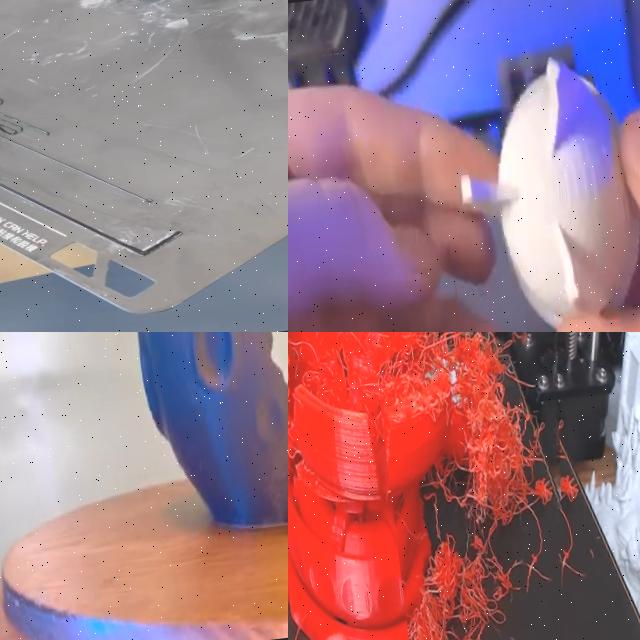spaghetti: (360, 332, 609, 640)
